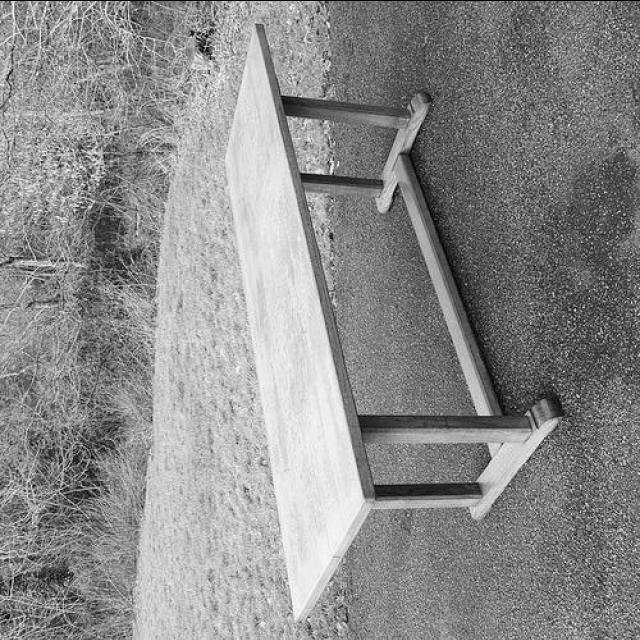table: (222, 21, 562, 622)
